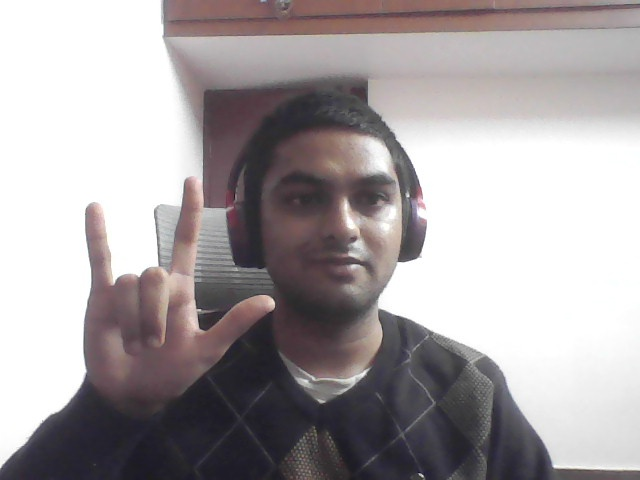I Love You: (51, 168, 280, 434)
